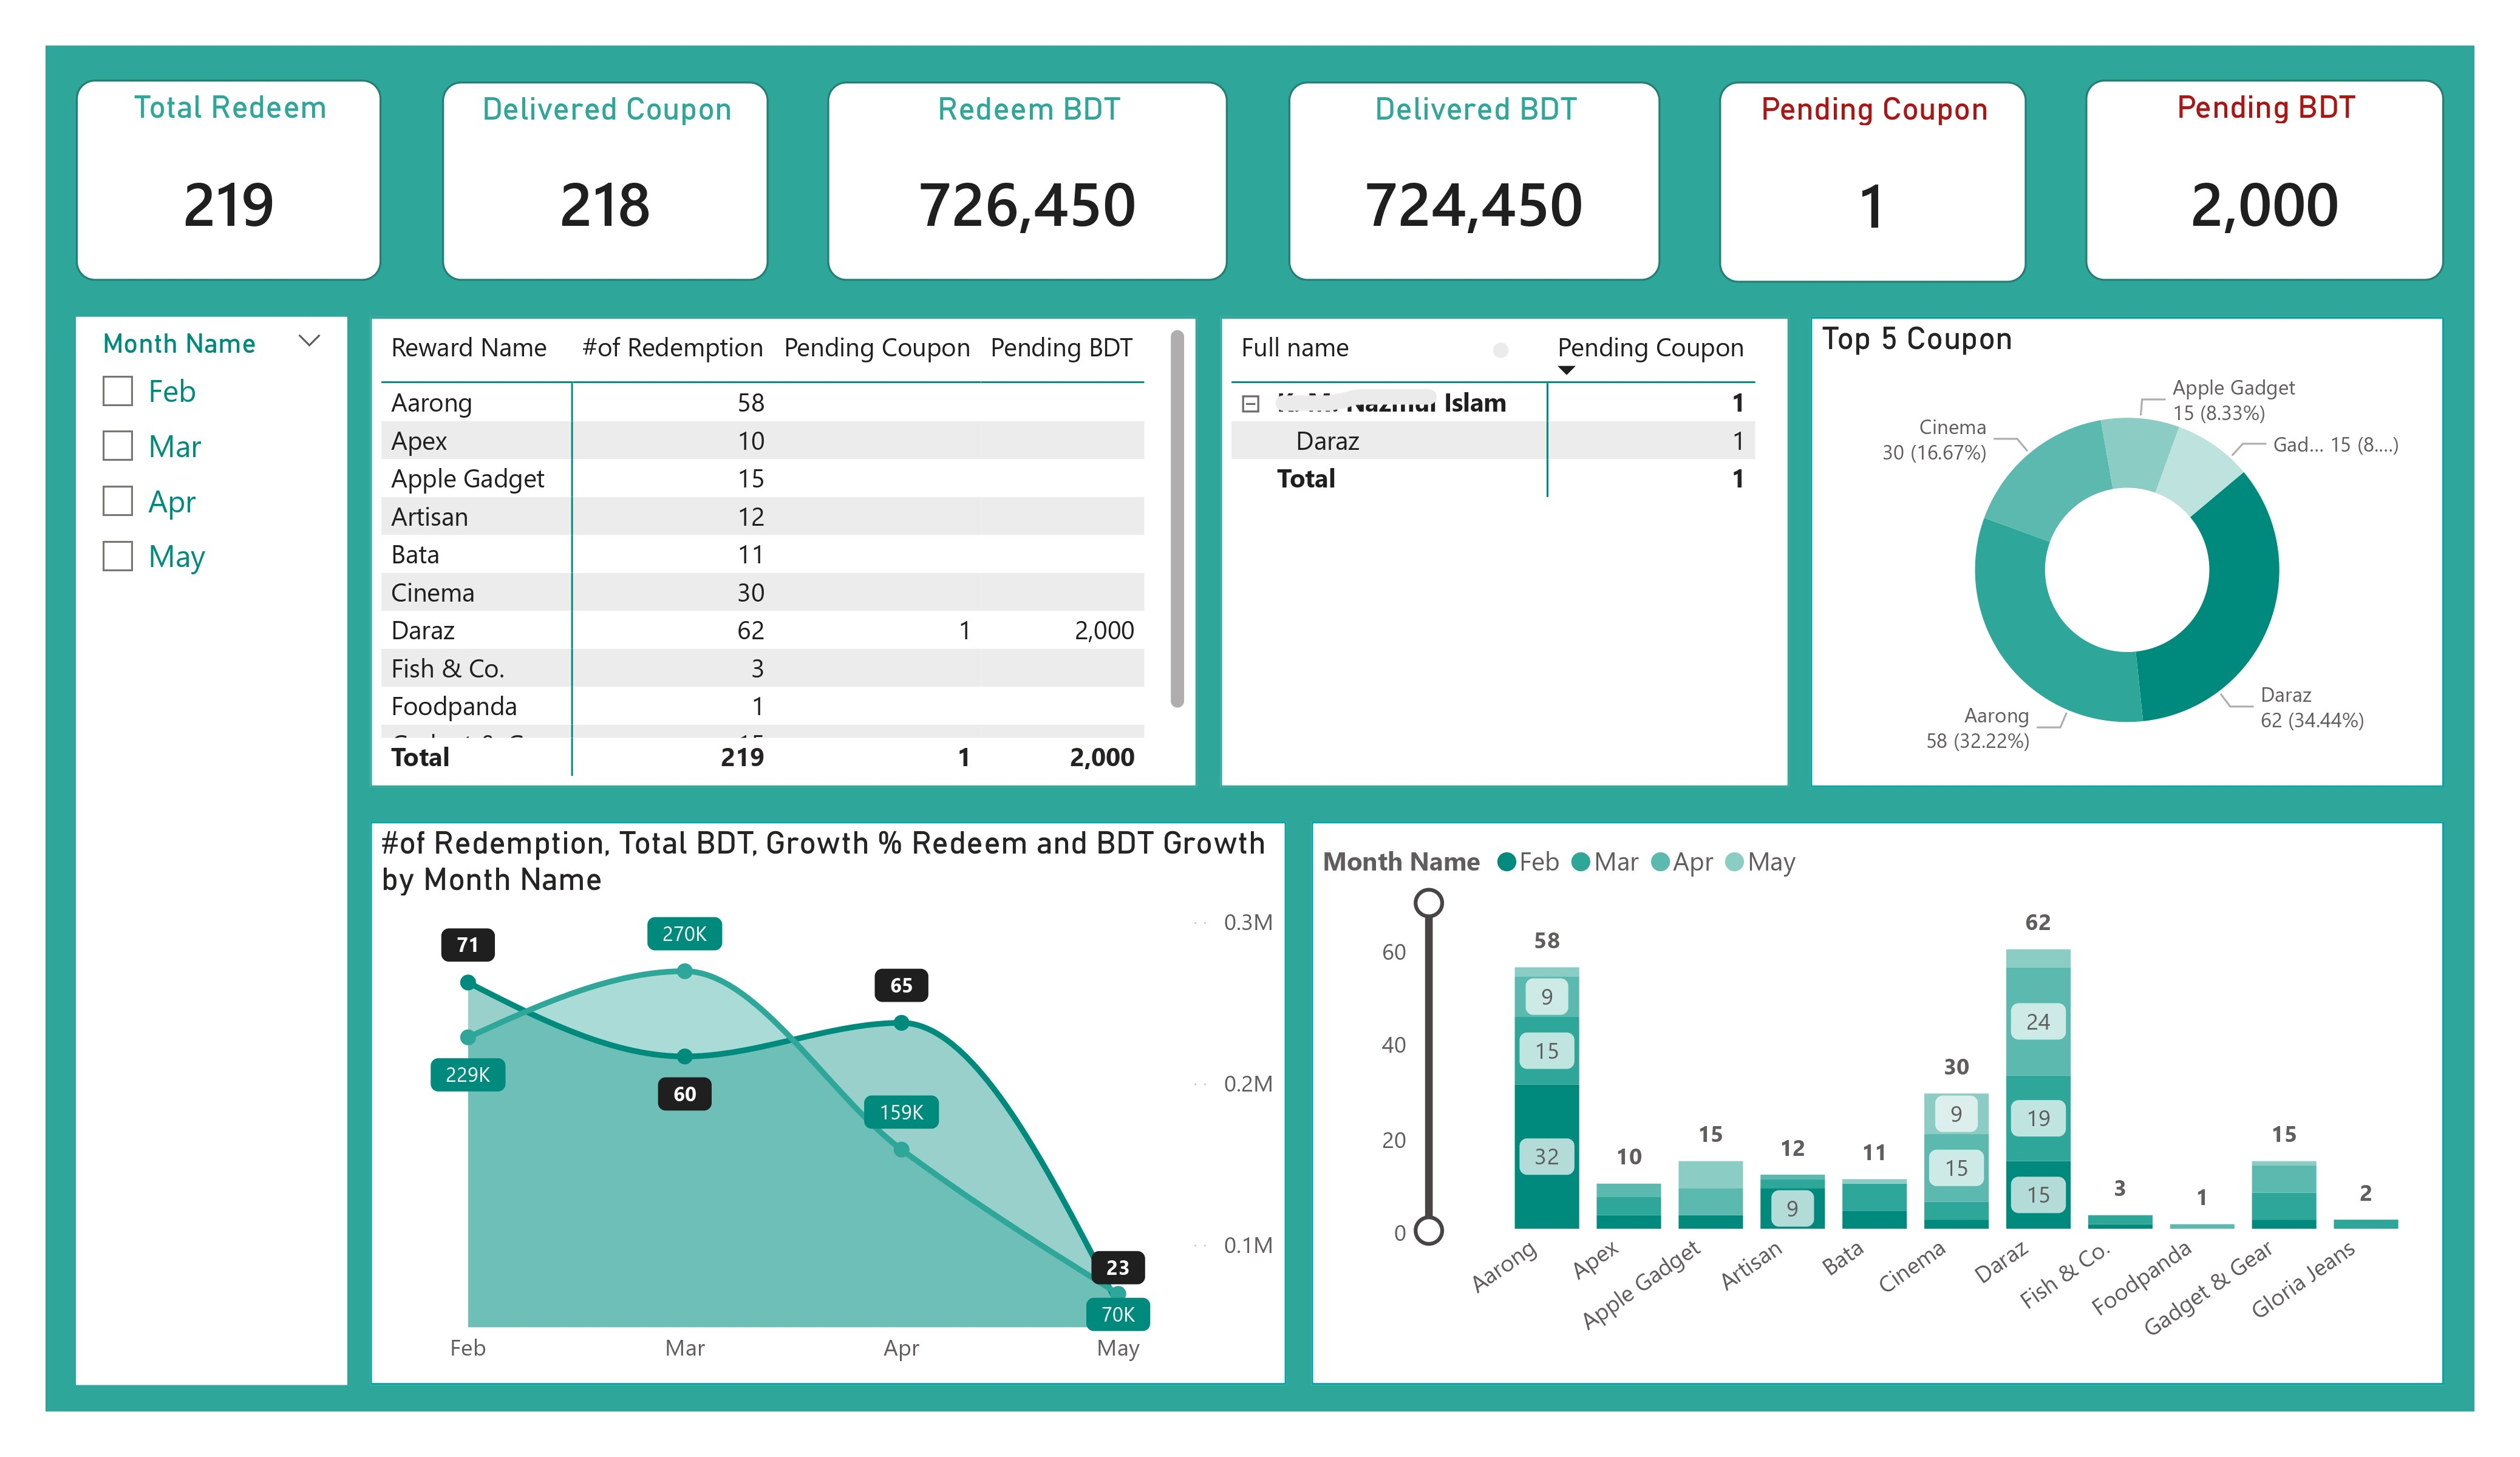

Layout of this report page (visuals, bound fields, positions):
{"tool":"powerbi","page":{"name":"Page 1","canvas":[1280,720],"ordinal":0},"visuals":[{"type":"cardVisual","title":"Redeem BDT","fields":{"Data":["_DAX.Total BDT"]},"box":[412.3,19.3,211.1,105],"z":0},{"type":"cardVisual","title":"Total Redeem","fields":{"Data":["_DAX.Total Redemption"]},"box":[16,18.5,161.4,106],"z":1000},{"type":"cardVisual","title":"Delivered Coupon","fields":{"Data":["_DAX.Delivered Redemption"]},"box":[208.6,19.3,172.5,105],"z":2000},{"type":"cardVisual","title":"Delivered BDT","fields":{"Data":["_DAX.Delivered BDT"]},"box":[654.6,19.3,196.6,105],"z":3000},{"type":"cardVisual","title":"Pending BDT","fields":{"Data":["_DAX.Pending BDT"]},"box":[1074.9,18.1,189.4,106.2],"z":4000},{"type":"cardVisual","title":"Pending Coupon","fields":{"Data":["_DAX.Pending Coupon"]},"box":[882.4,18.9,161.4,106],"z":5000},{"type":"pivotTable","fields":{"Rows":["Redemption List.Reward Name"],"Values":["_DAX.Total Redemption","_DAX.Pending Coupon","_DAX.Pending BDT"]},"box":[171.3,142.9,436.2,247.7],"z":6000},{"type":"pivotTable","fields":{"Rows":["Redemption List.Full name","Redemption List.Reward Name"],"Values":["_DAX.Pending Coupon"]},"box":[618.6,142.9,300.7,247.7],"z":7000},{"type":"slicer","fields":{"Values":["DimDate.Month Name"]},"box":[16,142.9,142.9,563.1],"z":8000},{"type":"lineStackedColumnComboChart","fields":{"Category":["Redemption List.Reward Name"],"Y":["_DAX.Total Redemption"],"Series":["DimDate.Month Name"]},"box":[667.2,409,597.2,296.8],"z":9000},{"type":"donutChart","title":"Top 5 Coupon","fields":{"Category":["Redemption List.Reward Name"],"Y":["_DAX.Total Redemption"]},"box":[930.3,142.9,333.9,247.7],"z":10000},{"type":"lineChart","fields":{"Category":["DimDate.Month Name"],"Y":["_DAX.#of Redemption"],"Y2":["_DAX.Total BDT"]},"box":[171.3,409,482.6,296.8],"z":11000}]}

Visuals, with their boxes in screenshot pixels (x1, y1, x2, y2):
"Redeem BDT" cardVisual: rect(814, 70, 1224, 274)
"Total Redeem" cardVisual: rect(44, 69, 358, 274)
"Delivered Coupon" cardVisual: rect(418, 70, 753, 274)
"Delivered BDT" cardVisual: rect(1284, 70, 1666, 274)
"Pending BDT" cardVisual: rect(2100, 68, 2468, 274)
"Pending Coupon" cardVisual: rect(1726, 69, 2040, 275)
pivotTable - Redemption List.Reward Name x _DAX.Total Redemption: rect(346, 310, 1193, 791)
pivotTable - Redemption List.Full name x Redemption List.Reward Name: rect(1214, 310, 1798, 791)
slicer - DimDate.Month Name: rect(44, 310, 322, 1403)
lineStackedColumnComboChart - Redemption List.Reward Name x _DAX.Total Redemption: rect(1309, 827, 2468, 1403)
"Top 5 Coupon" donutChart: rect(1819, 310, 2468, 791)
lineChart - DimDate.Month Name x _DAX.#of Redemption: rect(346, 827, 1282, 1403)
